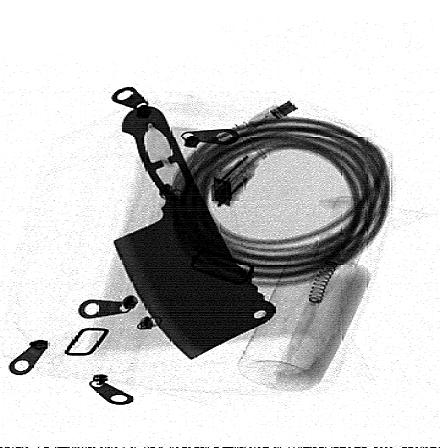Knife: (112, 105, 277, 361)
